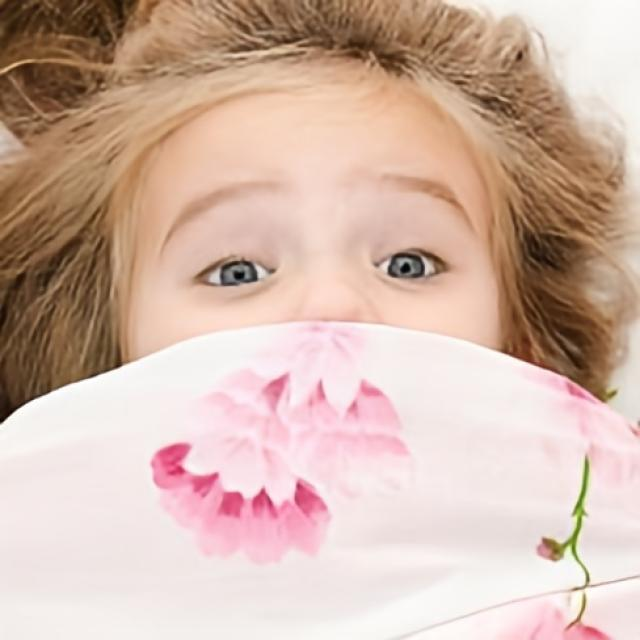surprise: (119, 76, 513, 368)
